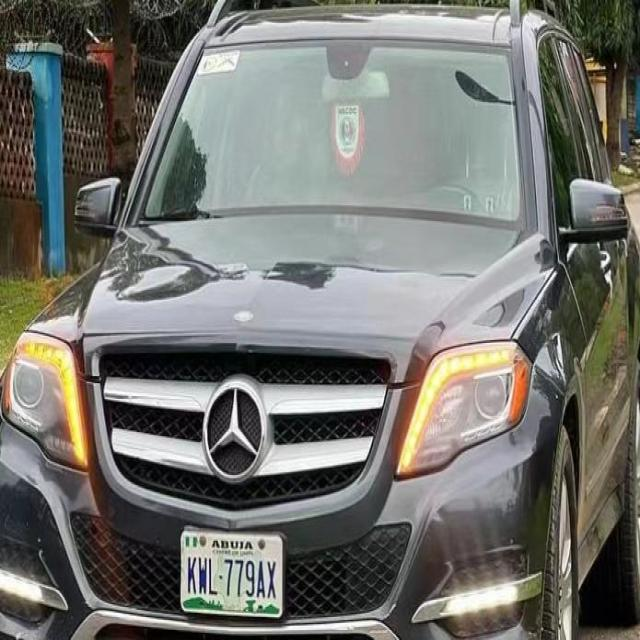Nigerian License Plate - vdataset benjamin-daria: (178, 527, 284, 621)
